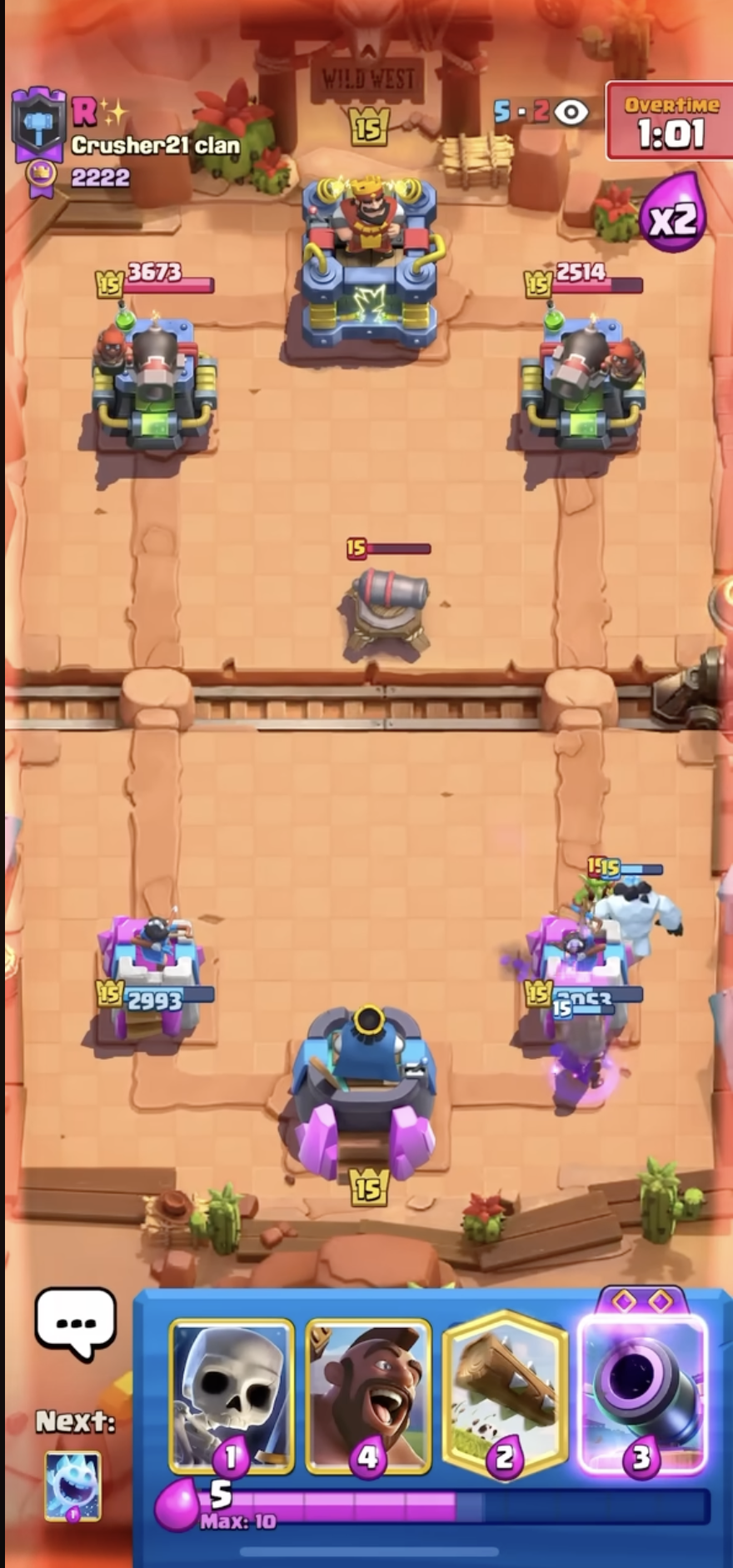evo_musketeer: (547, 991, 625, 1108)
ice_golem: (583, 859, 697, 978)
